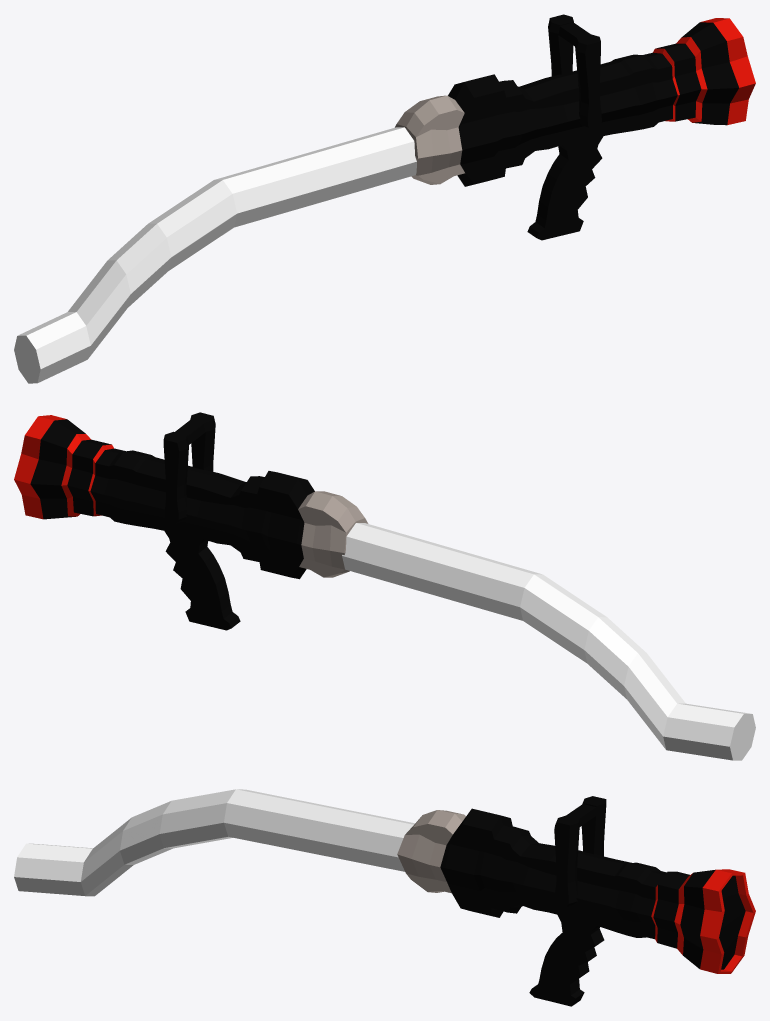
Rendered from mangueira.fbx.
3 renders of one model, top to bottom at view 1: azimuth 30°, elevation 25°; view 2: azimuth 150°, elevation 25°; view 3: azimuth 330°, elevation 25°, orthographic. The views are drawn at different scales.
Visible parts, largest first — view 1: MANGUEIRA; view 2: MANGUEIRA; view 3: MANGUEIRA.
Part boxes in pixels (left/top/right/bottom): MANGUEIRA: left=14, top=14, right=755, bottom=383; MANGUEIRA: left=14, top=412, right=755, bottom=760; MANGUEIRA: left=14, top=789, right=755, bottom=1006.
Size of the model in its own units: 714 by 201 by 71.89.
